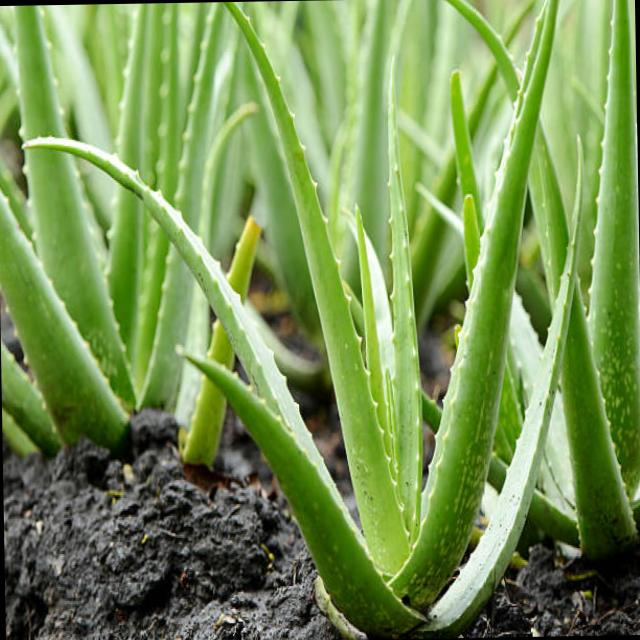AloeVera: (322, 46, 640, 577), (148, 201, 536, 624), (0, 69, 254, 473)
